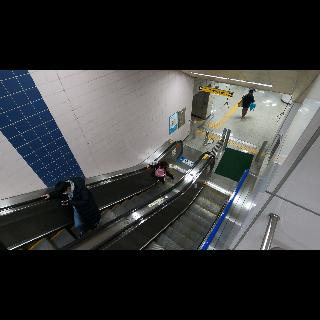normal: (40, 180, 100, 240), (146, 160, 176, 184), (240, 87, 256, 121)
